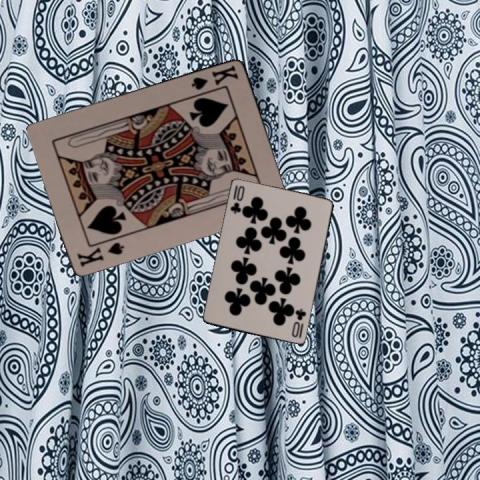10c: (227, 182, 246, 215), (289, 306, 307, 340)
Ks: (74, 239, 126, 268), (189, 62, 240, 91)
